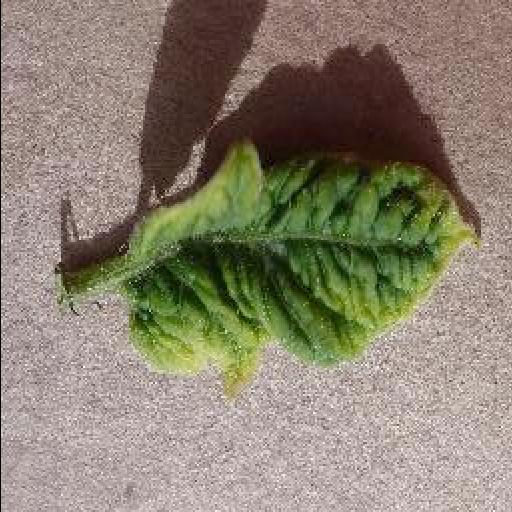disease_tomato: (120, 139, 482, 400)
